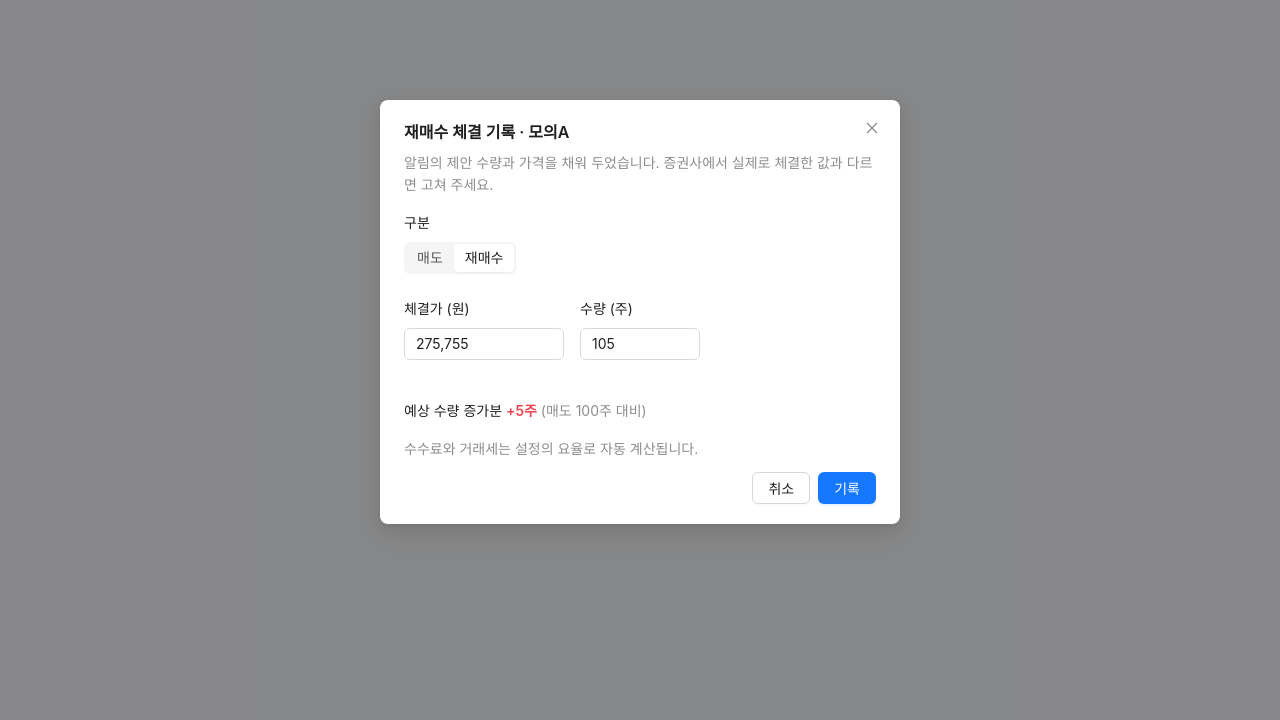
Test case: FillModal › previews the gain in shares of a rebuy as the quantity is typed
Check: the dialog "재매수 체결 기록" is shown, box [380, 100, 900, 548]
Check: the text "+5주" is shown, box [506, 402, 537, 419]
Replace the text in the number field labelled "수량 (주)" with "98" at (640, 344), box [581, 329, 699, 359]
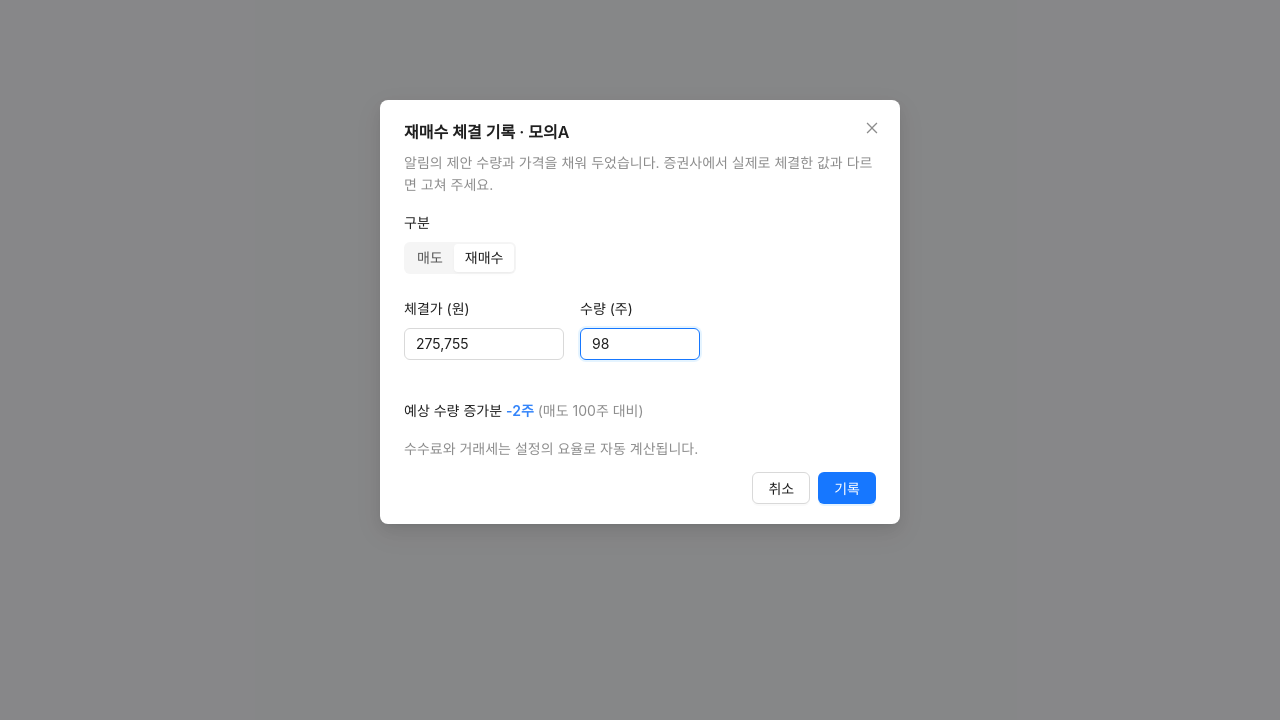
Check: the text "-2주" is shown, box [506, 402, 534, 419]
